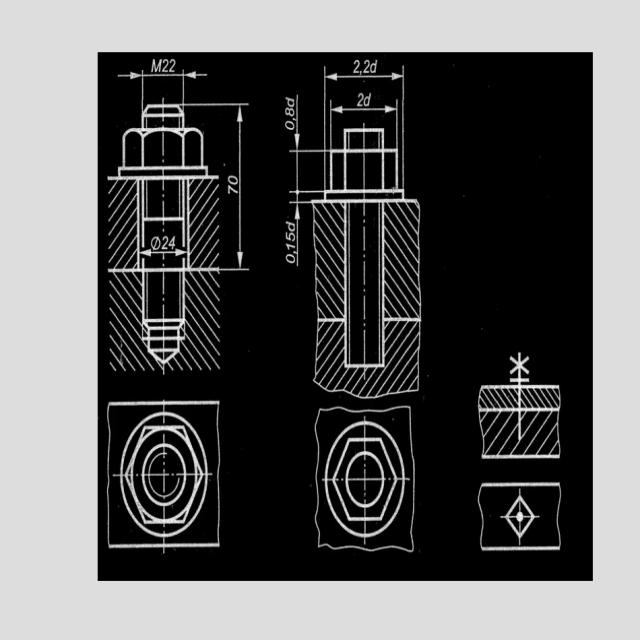marking_line: (323, 65, 402, 127), (221, 101, 249, 272), (289, 95, 309, 268), (117, 69, 208, 102), (291, 93, 324, 154), (329, 100, 398, 126), (385, 68, 407, 147), (324, 65, 343, 147), (289, 201, 310, 269), (328, 98, 343, 149), (385, 99, 398, 149)
numeric: (169, 234, 176, 250), (228, 185, 239, 195), (284, 121, 295, 131), (285, 253, 295, 264), (227, 176, 239, 185), (162, 236, 169, 251), (169, 58, 176, 73), (162, 59, 169, 74), (357, 92, 364, 107), (286, 232, 296, 242), (363, 60, 370, 74), (353, 60, 360, 73), (284, 108, 294, 117), (286, 244, 295, 250)
special_symbol: (151, 237, 161, 251), (359, 70, 362, 76), (292, 117, 296, 121)
